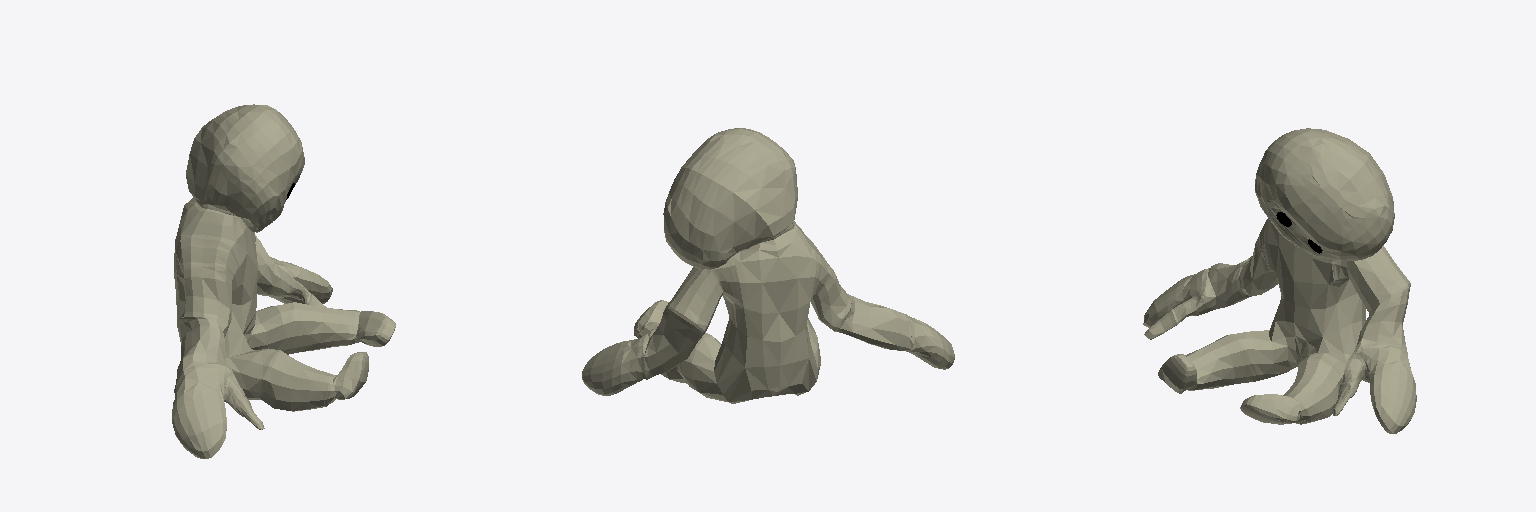
Rendered from horrordoll.obj.
3 views of the same model, side by side, from view 1: azimuth 30°, elevation 25°; view 2: azimuth 150°, elevation 25°; view 3: azimuth 270°, elevation 25° (orthographic).
Visible parts, largest first — view 1: Cube.001_Cube.002; view 2: Cube.001_Cube.002; view 3: Cube.001_Cube.002.
Boxes of the visible parts, x1=… form: Cube.001_Cube.002: x1=172, y1=104, x2=395, y2=458; Cube.001_Cube.002: x1=582, y1=128, x2=954, y2=403; Cube.001_Cube.002: x1=1143, y1=128, x2=1416, y2=433.
Size of the model in its own units: 4.81 by 4.61 by 4.35.